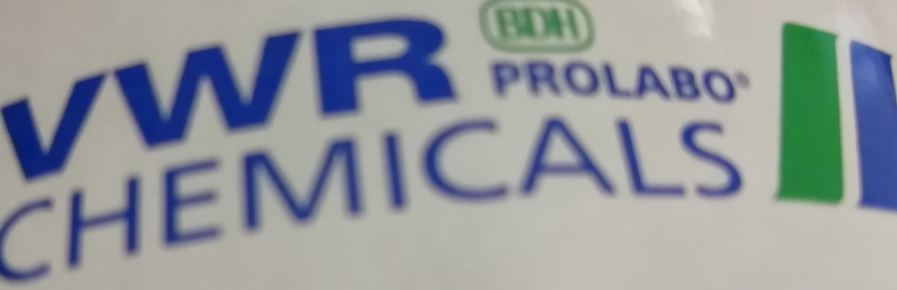VWR: (2, 3, 895, 284)
